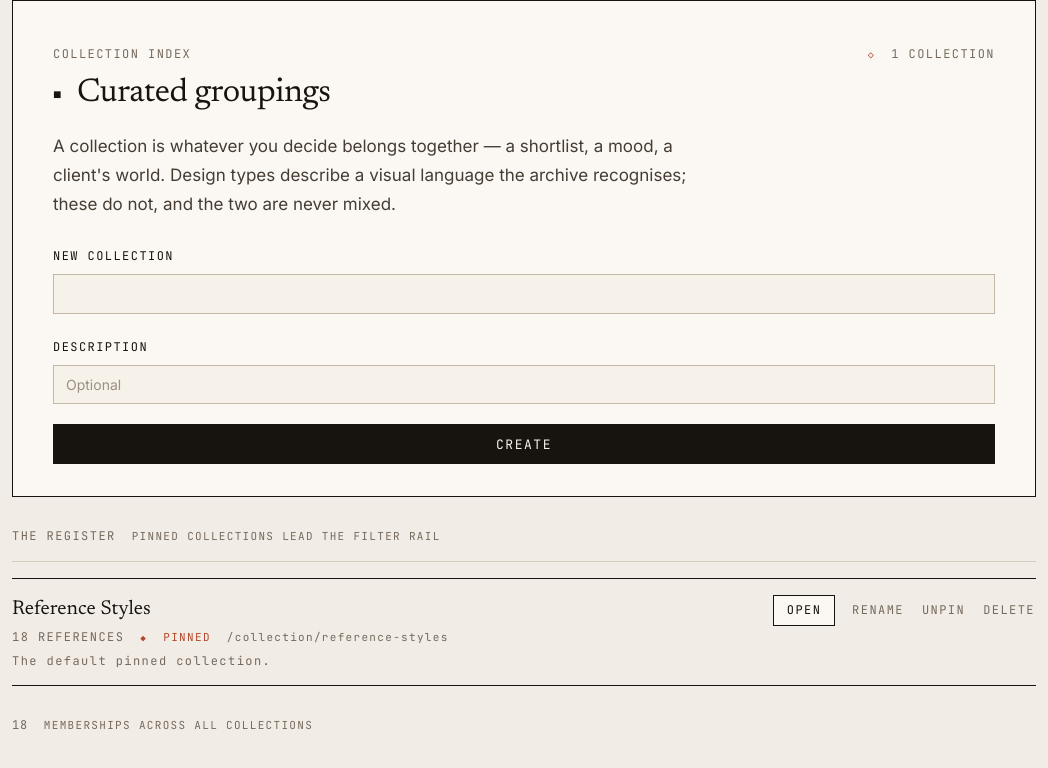
Test case: creating a collection › refuses an empty name without sending anything
The width and height of the screenshot is (1048, 768).
Expected: the link "Reference Styles" is shown, x1=12 y1=599 x2=151 y2=619
Click the button "Create": (524, 444) x1=53 y1=424 x2=995 y2=464
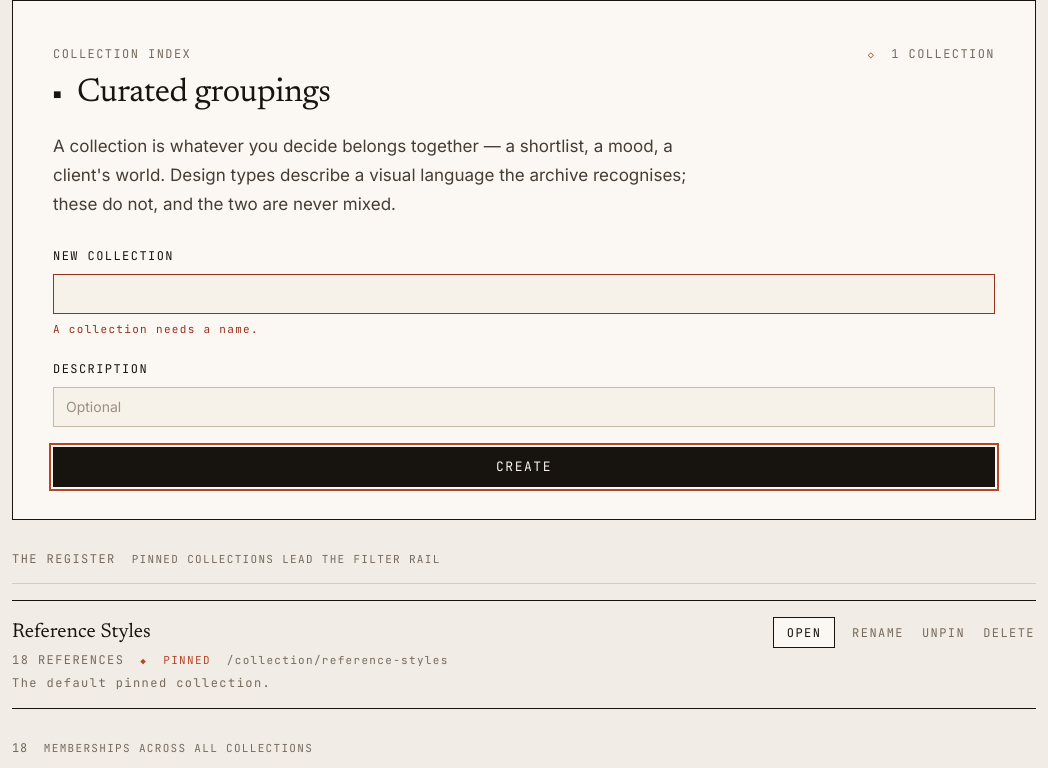
Expected: the text "A collection needs a name." is shown, x1=53 y1=322 x2=259 y2=336
